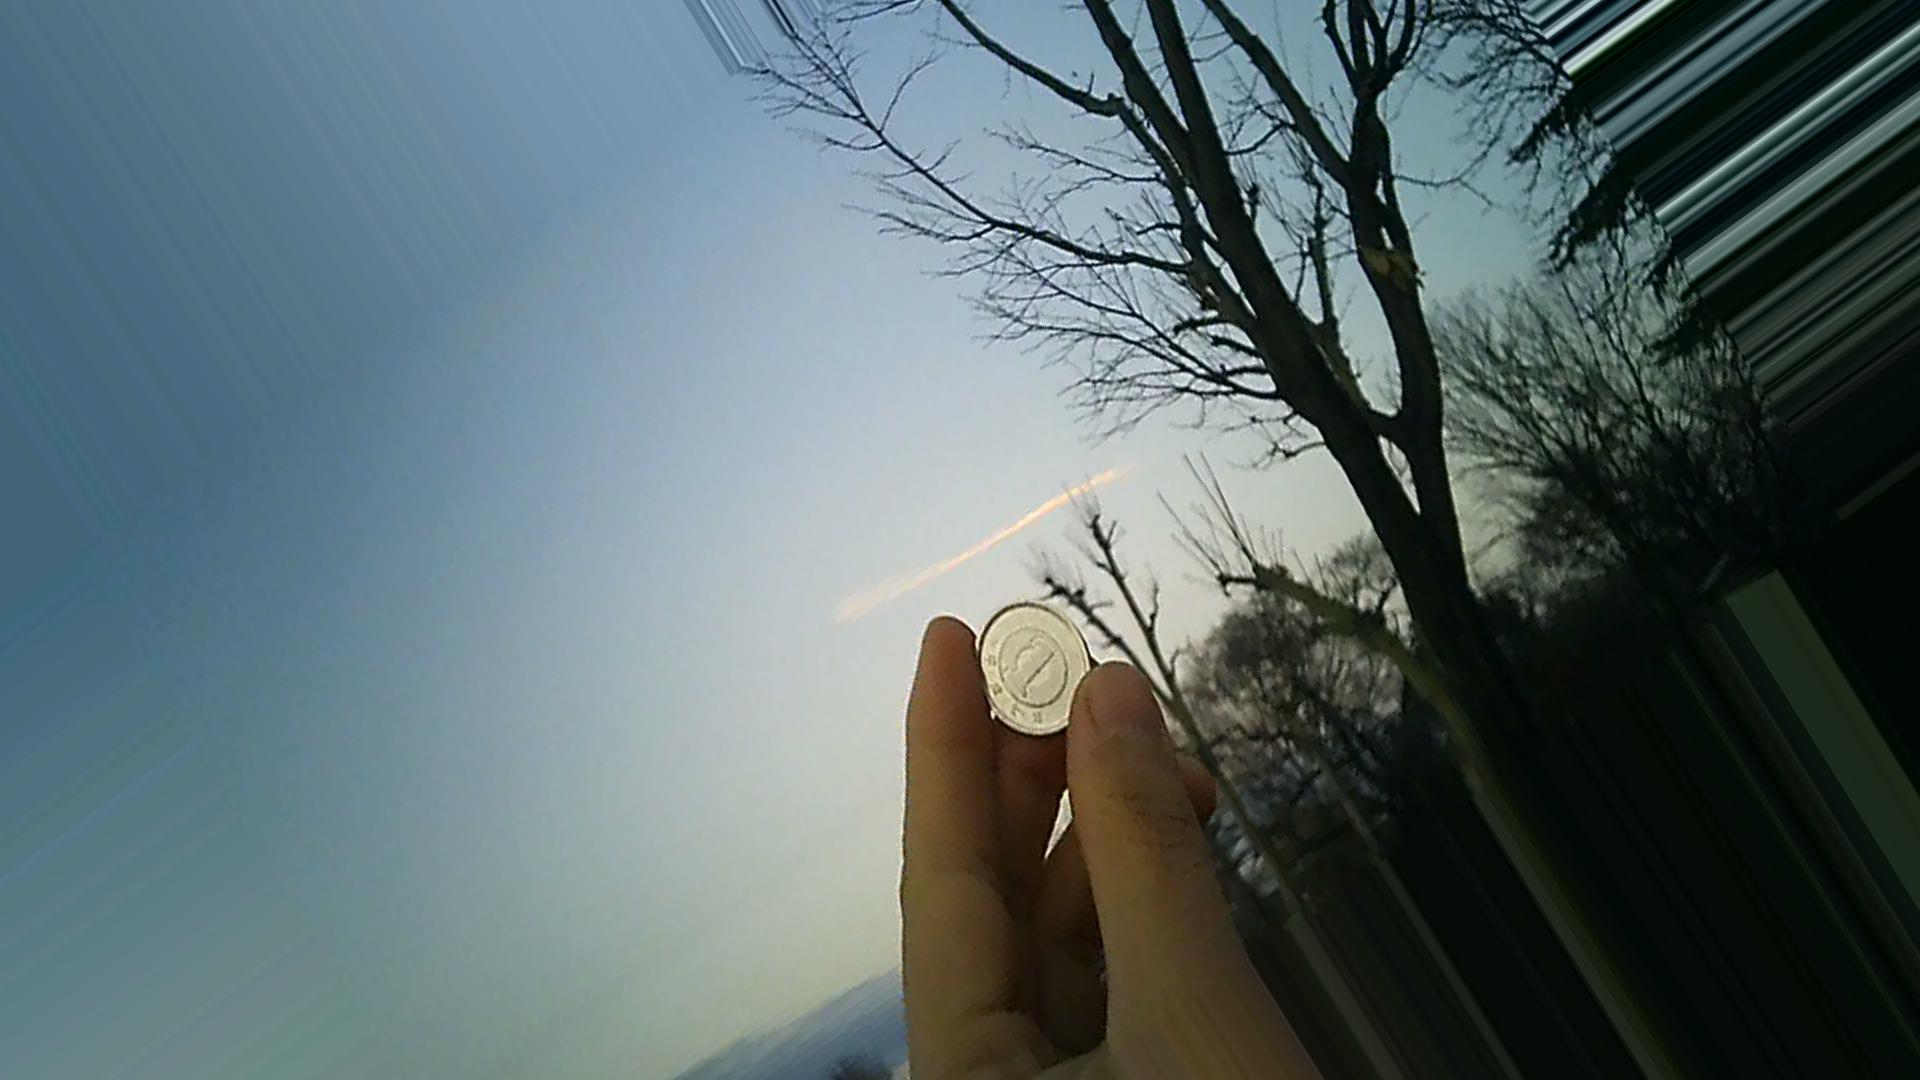1 Yen: (968, 588, 1106, 752)
